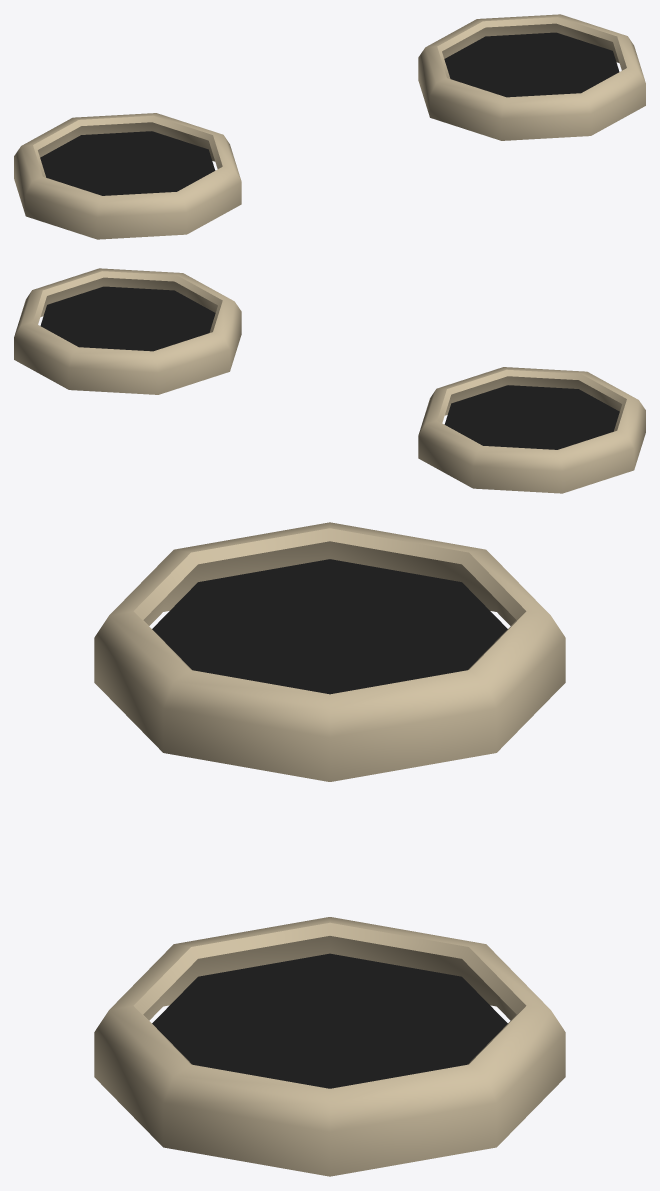
The model's file is t60_fan.obj.
The picture shows the model from 3 angles, top to bottom: view 1: azimuth 30°, elevation 25°; view 2: azimuth 150°, elevation 25°; view 3: azimuth 270°, elevation 25°; orthographic projection. The views are drawn at different scales.
Parts seen in each view (by area): view 1: t60_fan; view 2: t60_fan; view 3: t60_fan.
Part boxes in pixels (left/top/right/bottom): t60_fan: left=14, top=14, right=645, bottom=239; t60_fan: left=14, top=268, right=645, bottom=493; t60_fan: left=94, top=522, right=565, bottom=1176.
Size of the model in its own units: 2.86 by 0.16 by 0.96.
